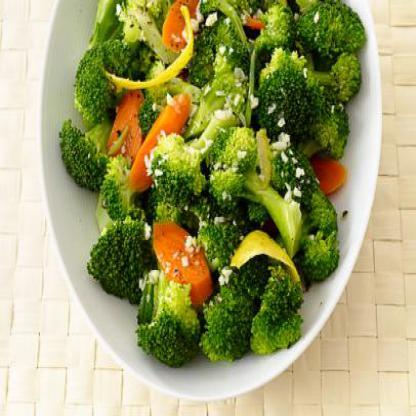broccoli: (57, 0, 369, 367)
